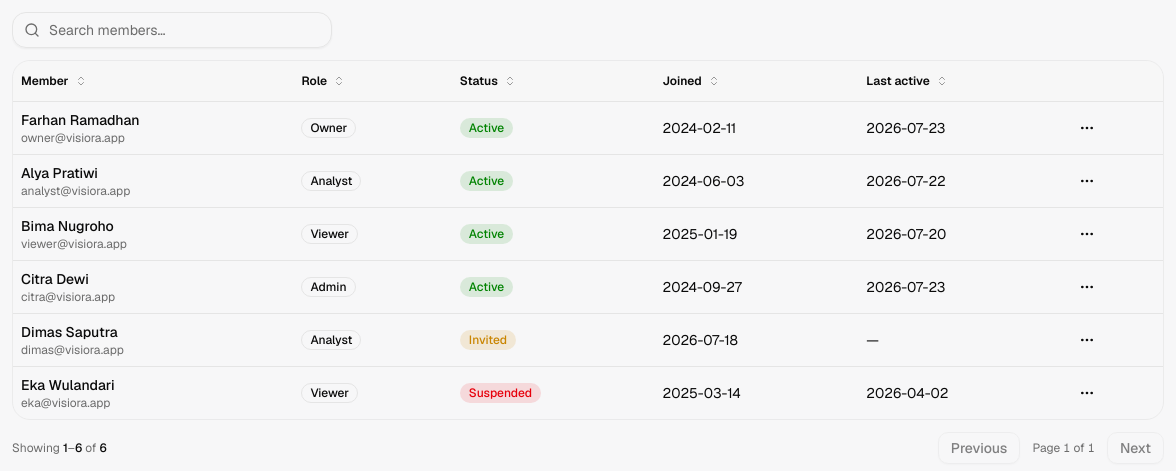
Test: TeamTable › filters members by name
This screenshot has width=1176, height=471.
Type "Alya" into the field.
click(172, 30); type("Alya")  # box [12,12,332,48]
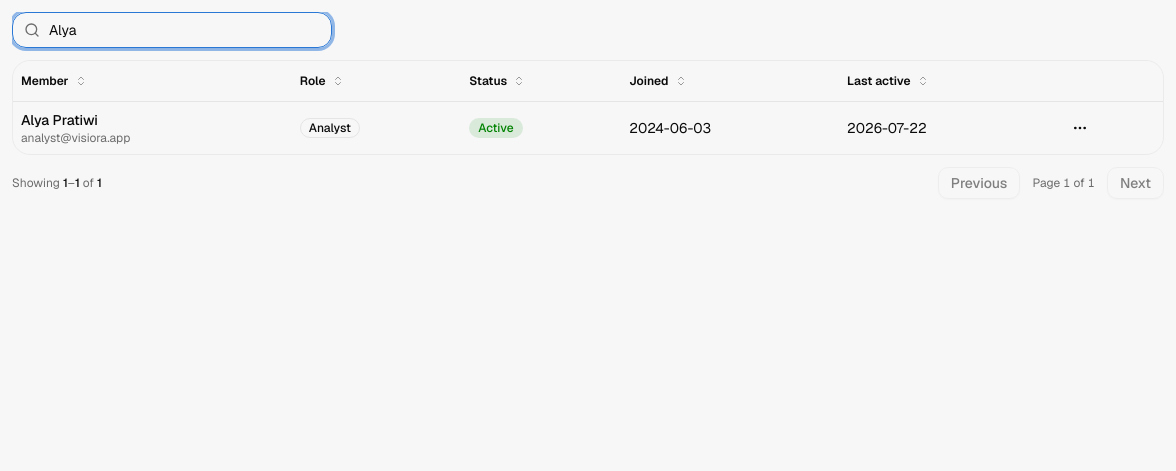
Expected: the text "Alya Pratiwi" is shown, [21,110,98,128]
Now the text "Farhan Ramadhan" is gone
